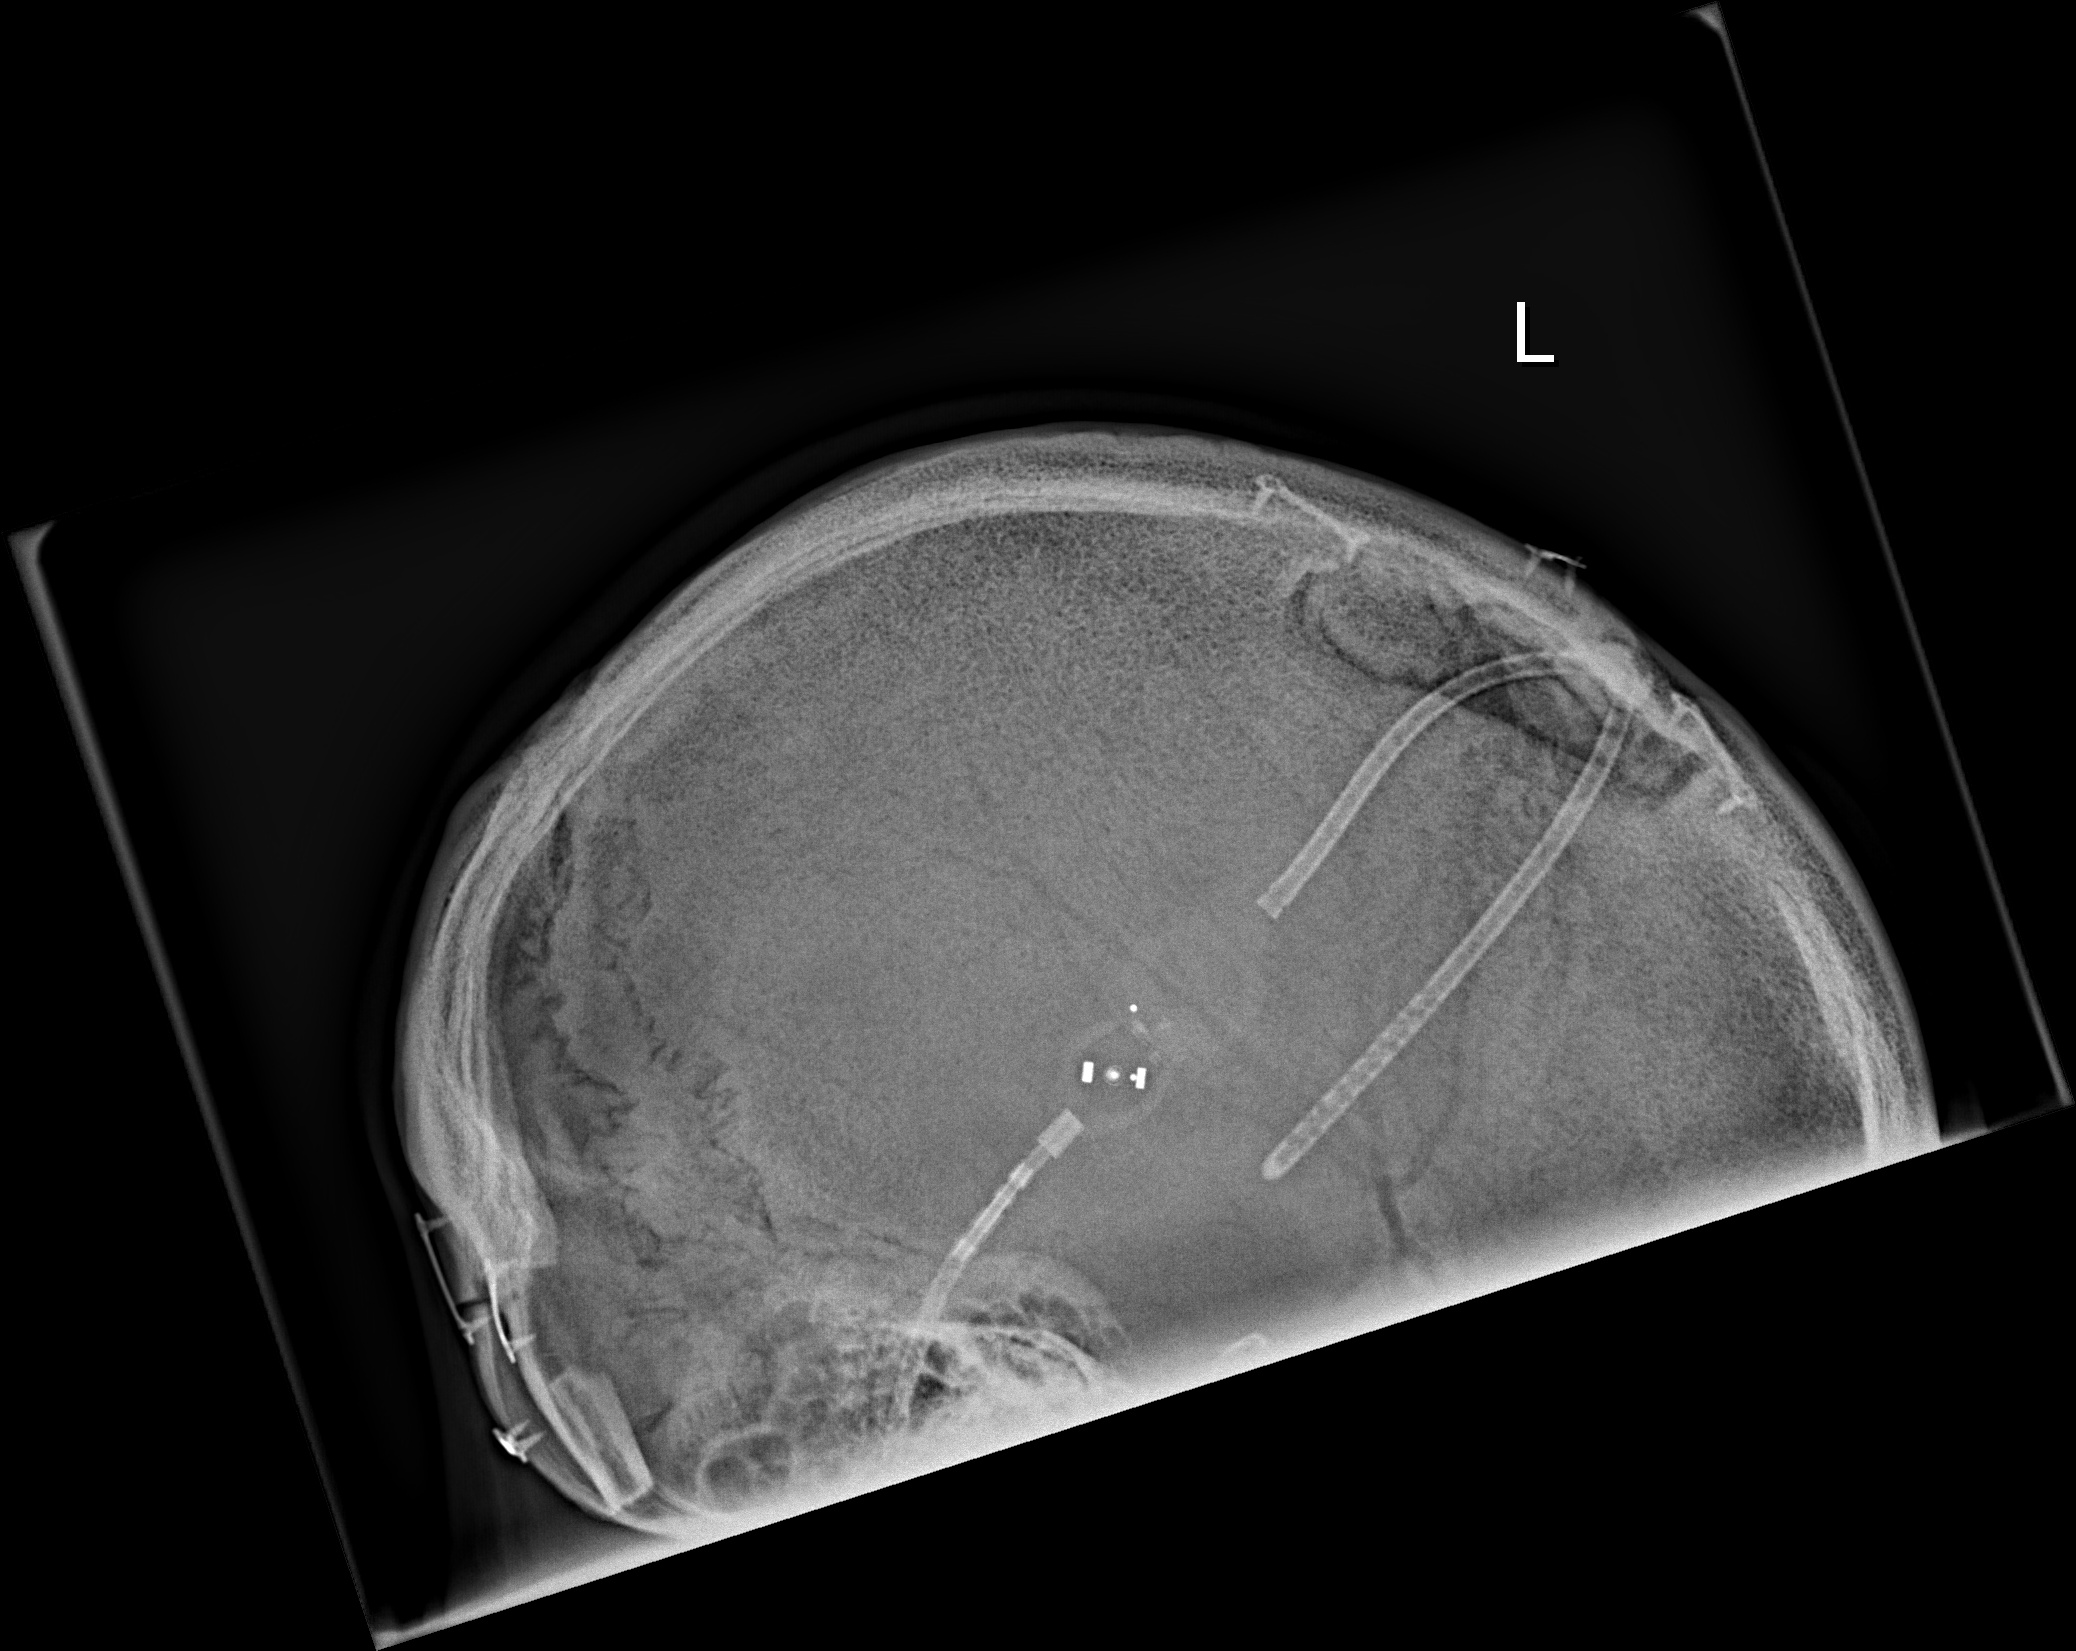Codman Certas: (1048, 999, 1174, 1142)
